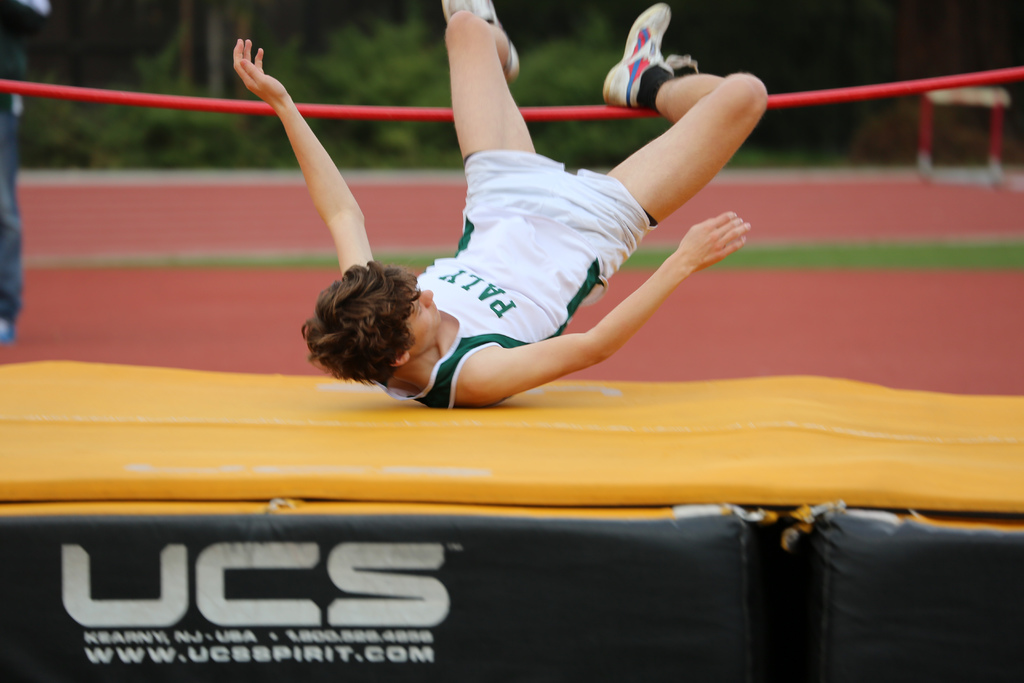Person: (233, 0, 767, 407)
